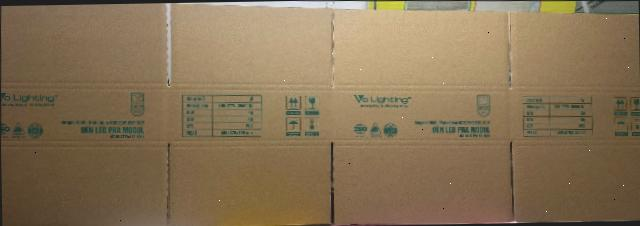box: (0, 3, 640, 226)
